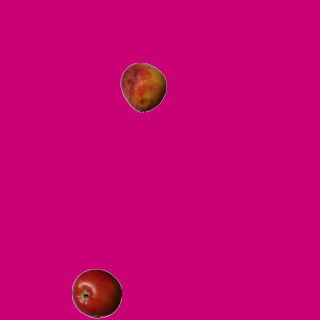Apple Braeburn: (71, 268, 121, 318)
Peach: (118, 62, 168, 112)
